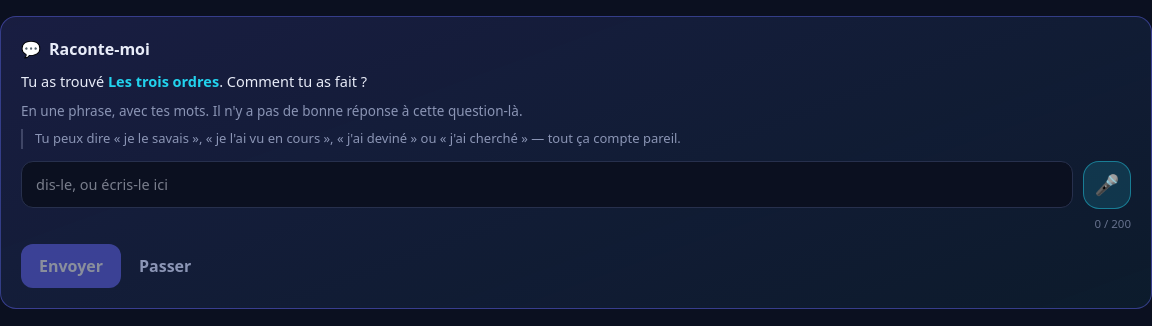
Test case: la carte demande, elle n'accuse pas › envoie le mot, puis remercie SANS promettre de récompense
Type "j'ai cherché" into the field named "Comment tu as trouvé". click: (547, 184)
box: [21, 160, 1073, 208]
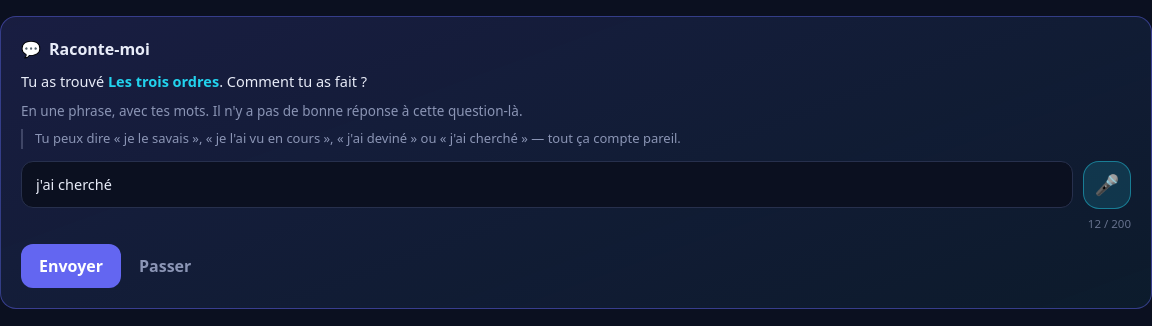
Click the button "Envoyer". click: (71, 266)
box: [21, 244, 121, 288]
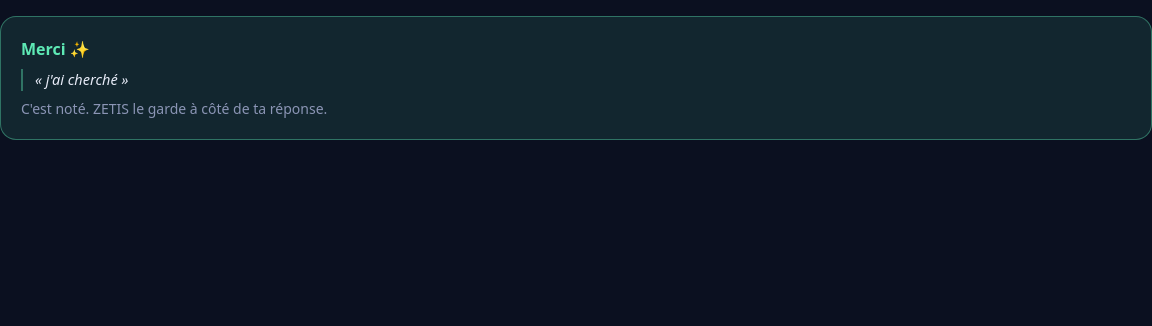
Expected: the text "Merci ✨" is shown, [21, 38, 90, 60]
Expected: the text "ZETIS le garde à côté de ta réponse" is shown, [21, 99, 327, 118]
Expected: the text "« j'ai cherché »" is shown, [21, 69, 1131, 91]
